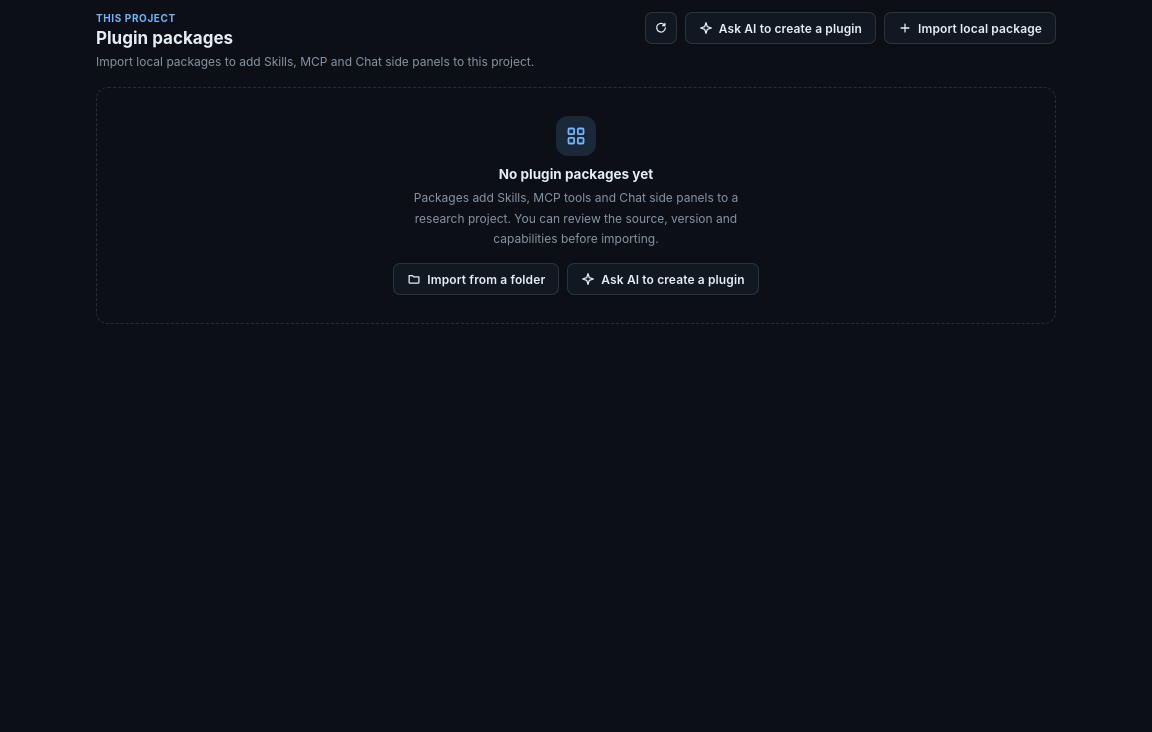
it: Plugin packages › retains the preview when installation fails and shows a retryable error
Click the button "Import local package": (970, 28) [884, 12, 1056, 44]
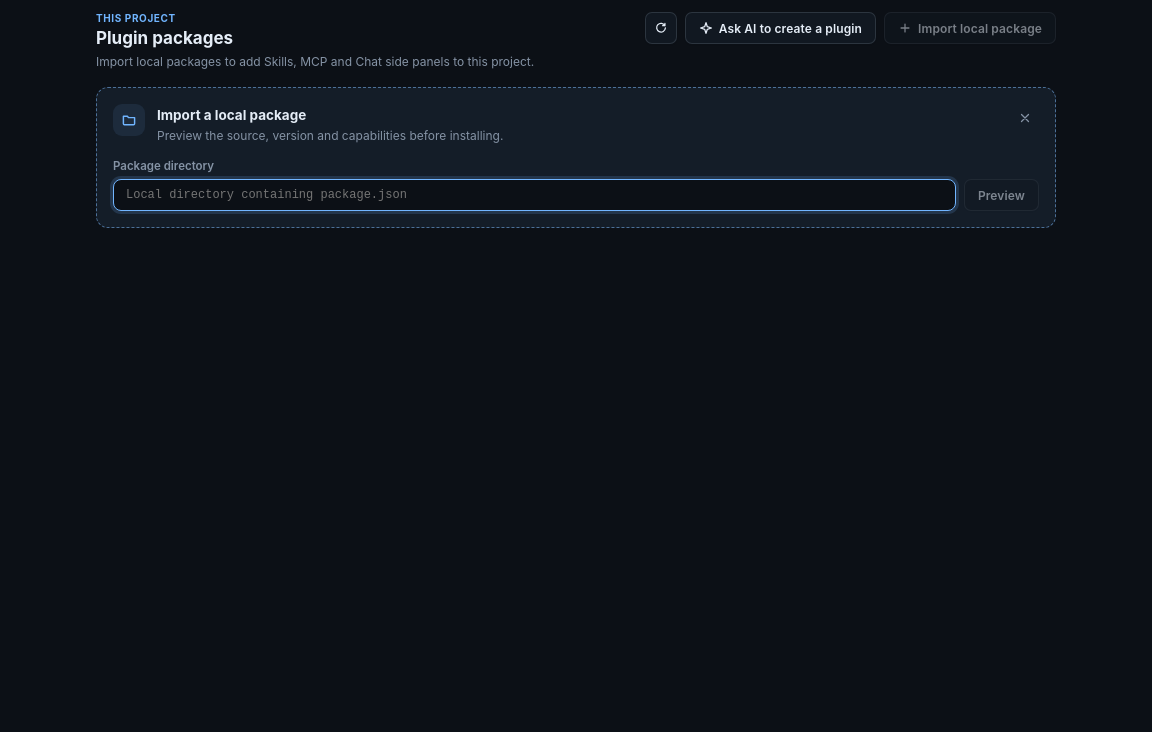
In the field labelled "Package directory": (534, 195) [113, 179, 956, 211], type "F:/packages/evidence"
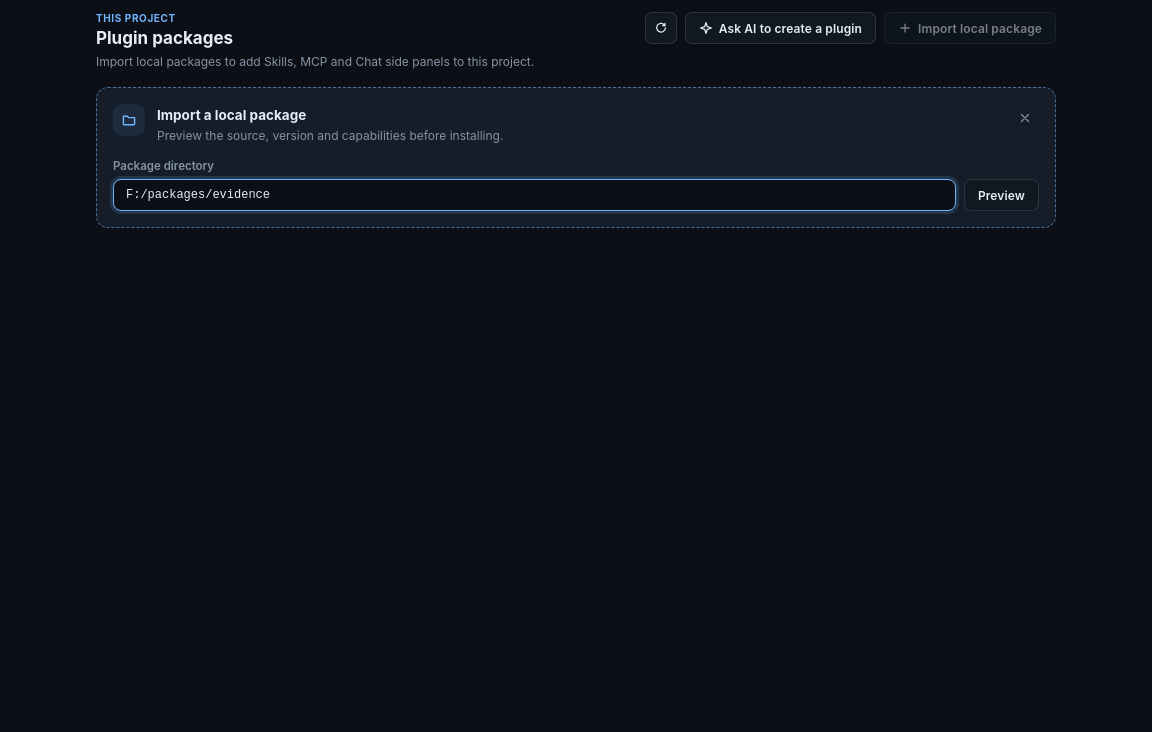
Click the button "Preview": (1001, 195) [964, 179, 1039, 211]
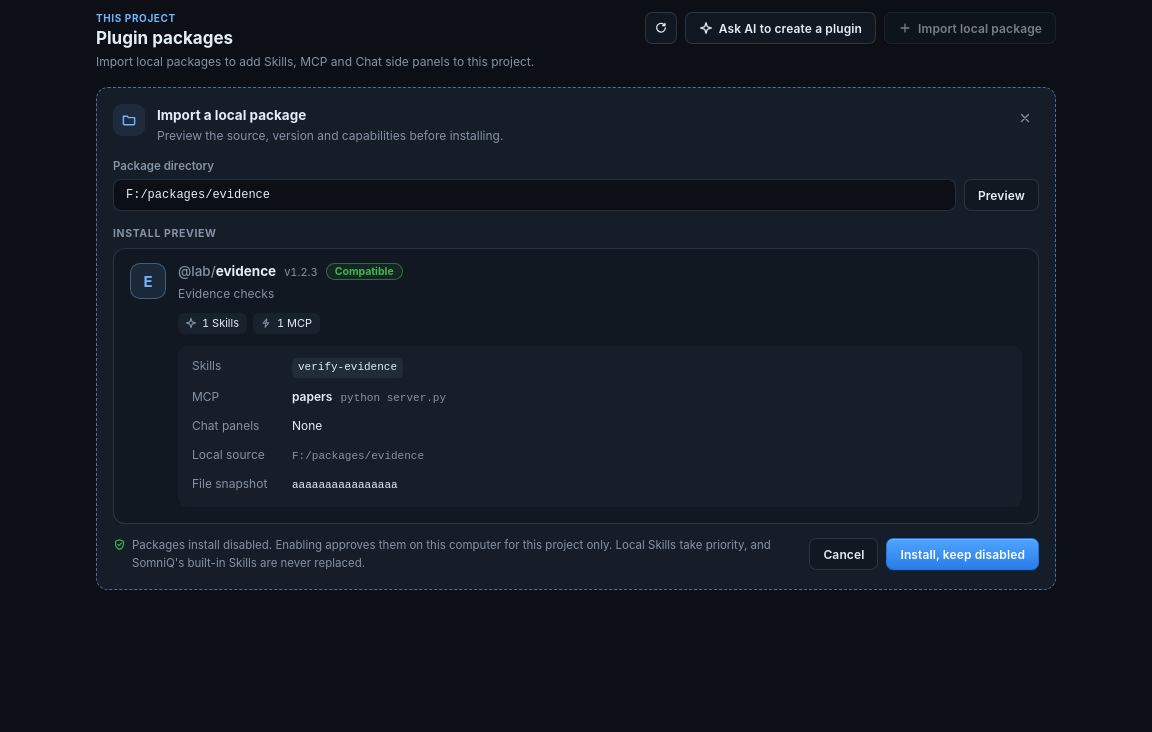
Click the button "Install, keep disabled": (963, 554) [886, 538, 1039, 570]
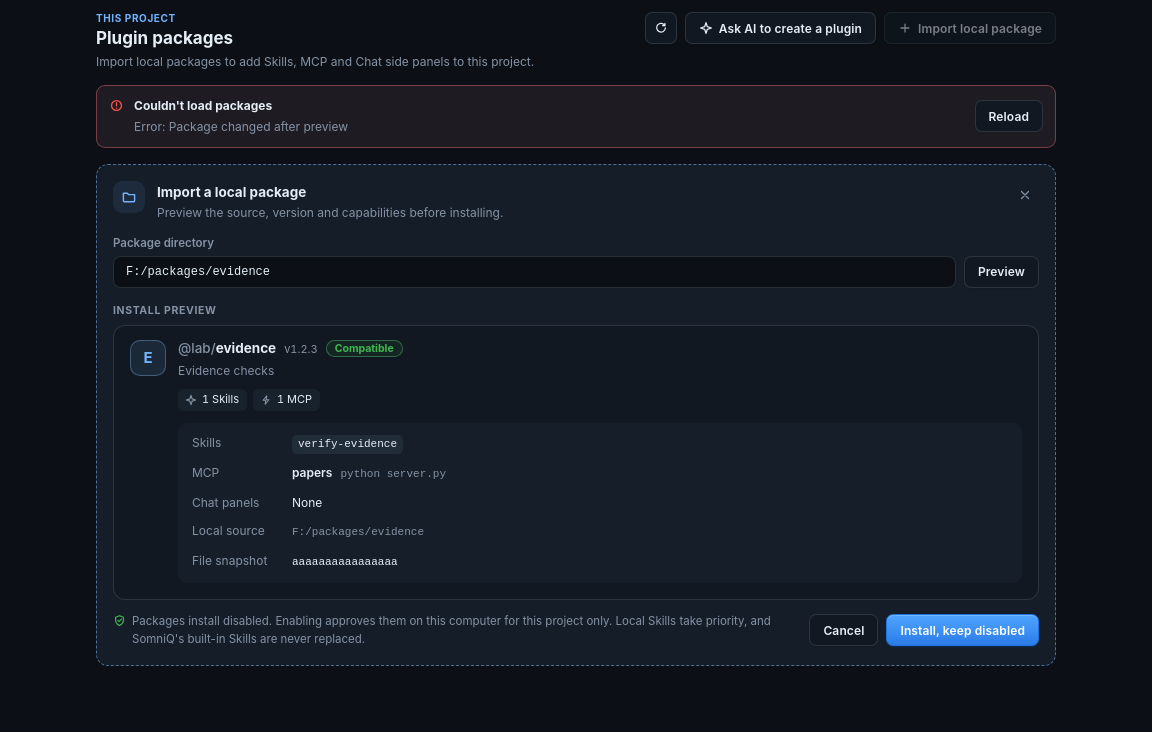
Expected: the element "@lab/evidence" is shown, [113, 325, 1039, 600]
Expected: the message "Couldn't load packages Error: Package changed after preview Reload" is shown, [96, 85, 1056, 148]
